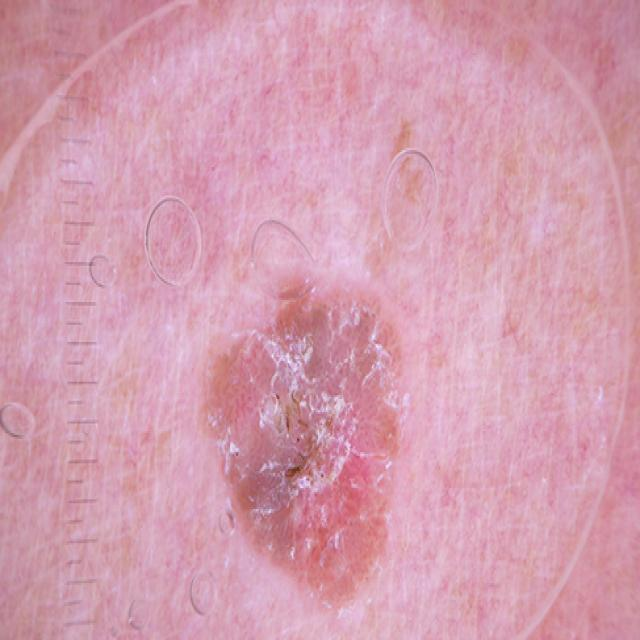Keratosis: (176, 250, 469, 640)
